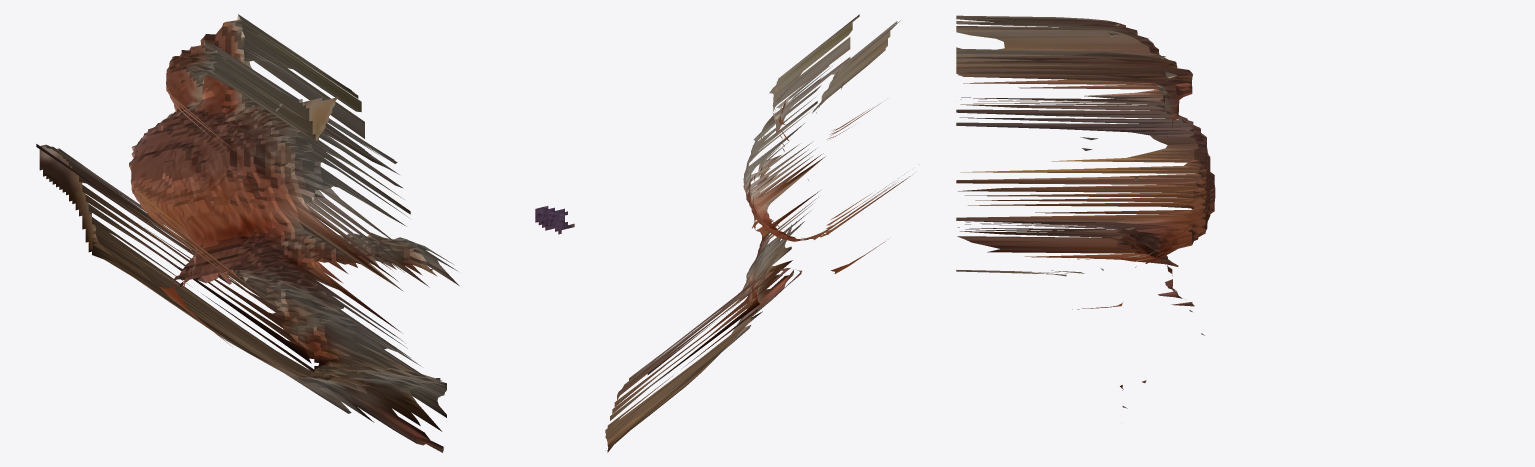
The model's file is frame_00329.glb.
3 views of the same model, side by side, from view 1: azimuth 30°, elevation 25°; view 2: azimuth 150°, elevation 25°; view 3: azimuth 270°, elevation 25° (orthographic). The views are drawn at different scales.
Visible parts, largest first — view 1: geometry_0; view 2: geometry_0; view 3: geometry_0.
Boxes of the visible parts, <box> form: geometry_0: <box>36,14,574,452</box>; geometry_0: <box>605,14,910,452</box>; geometry_0: <box>956,15,1215,408</box>.
Bounding box in the file's own units: 0.0961 × 0.1174 × 0.16.
1 material, 1 textured.
